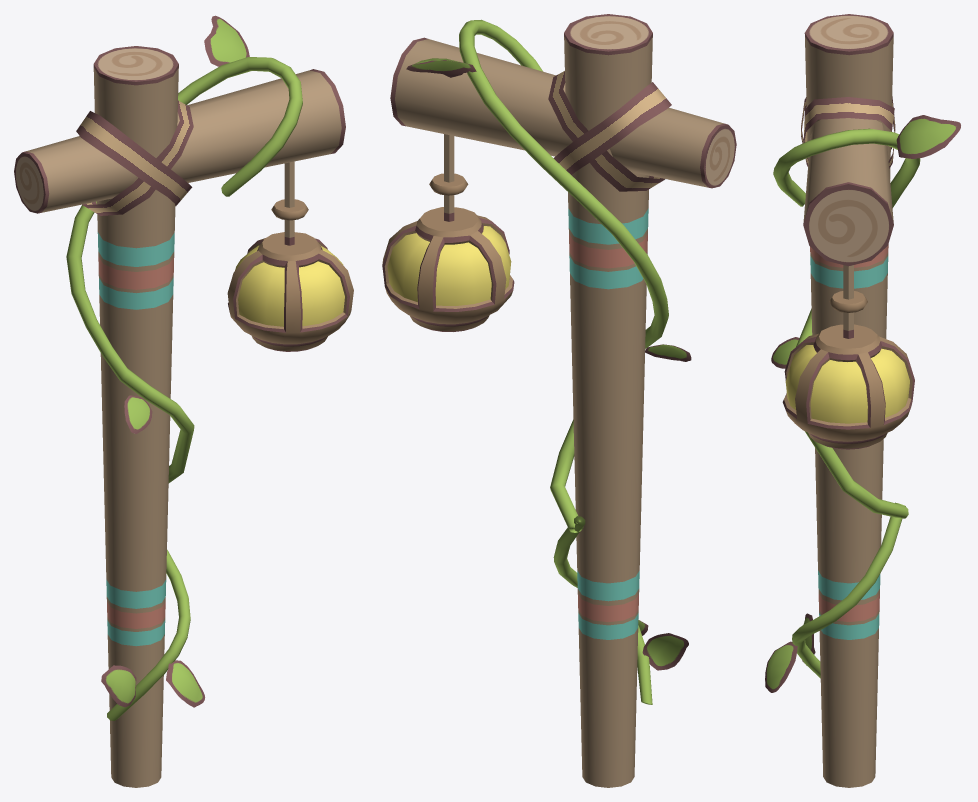
File: Mesh_Home_RF_Light_SM.fbx
The picture shows the model from 3 angles, left to right: view 1: azimuth 30°, elevation 25°; view 2: azimuth 150°, elevation 25°; view 3: azimuth 270°, elevation 25°; orthographic projection. The views are drawn at different scales.
Visible parts, largest first — view 1: Mesh_Home_RF_Light; view 2: Mesh_Home_RF_Light; view 3: Mesh_Home_RF_Light.
Part boxes in pixels (bbox=[...]): Mesh_Home_RF_Light: bbox=[14, 15, 353, 787]; Mesh_Home_RF_Light: bbox=[382, 14, 736, 787]; Mesh_Home_RF_Light: bbox=[765, 14, 960, 787].
Size of the model in its own units: 88.59 by 192 by 46.55.
